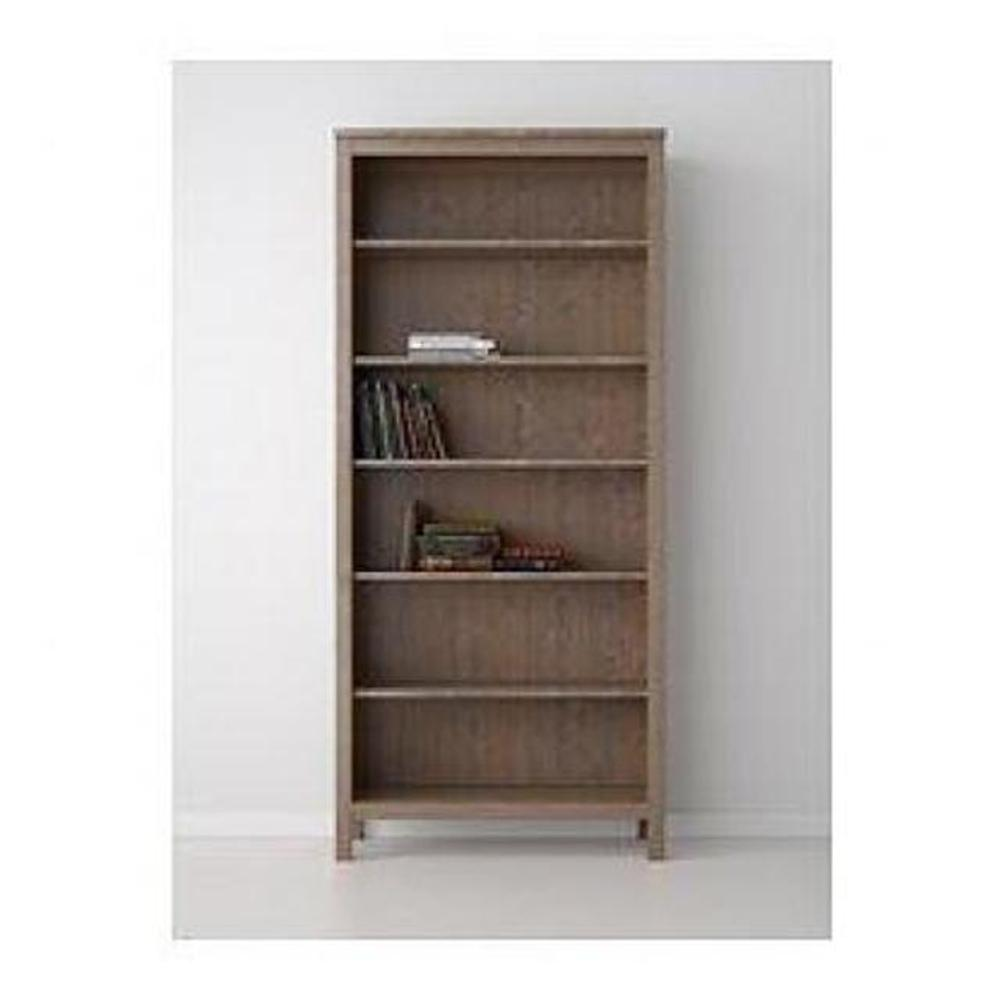lamp: (324, 117, 676, 868)
